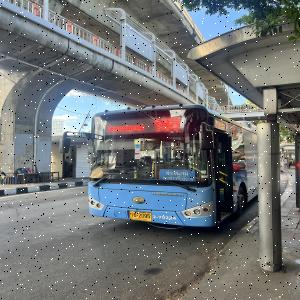BMTA-bus: (87, 105, 258, 229)
Bus Line Number: (150, 115, 183, 133)
Bus Side Number: (152, 214, 180, 221)
Destination Sign: (159, 169, 197, 182)
